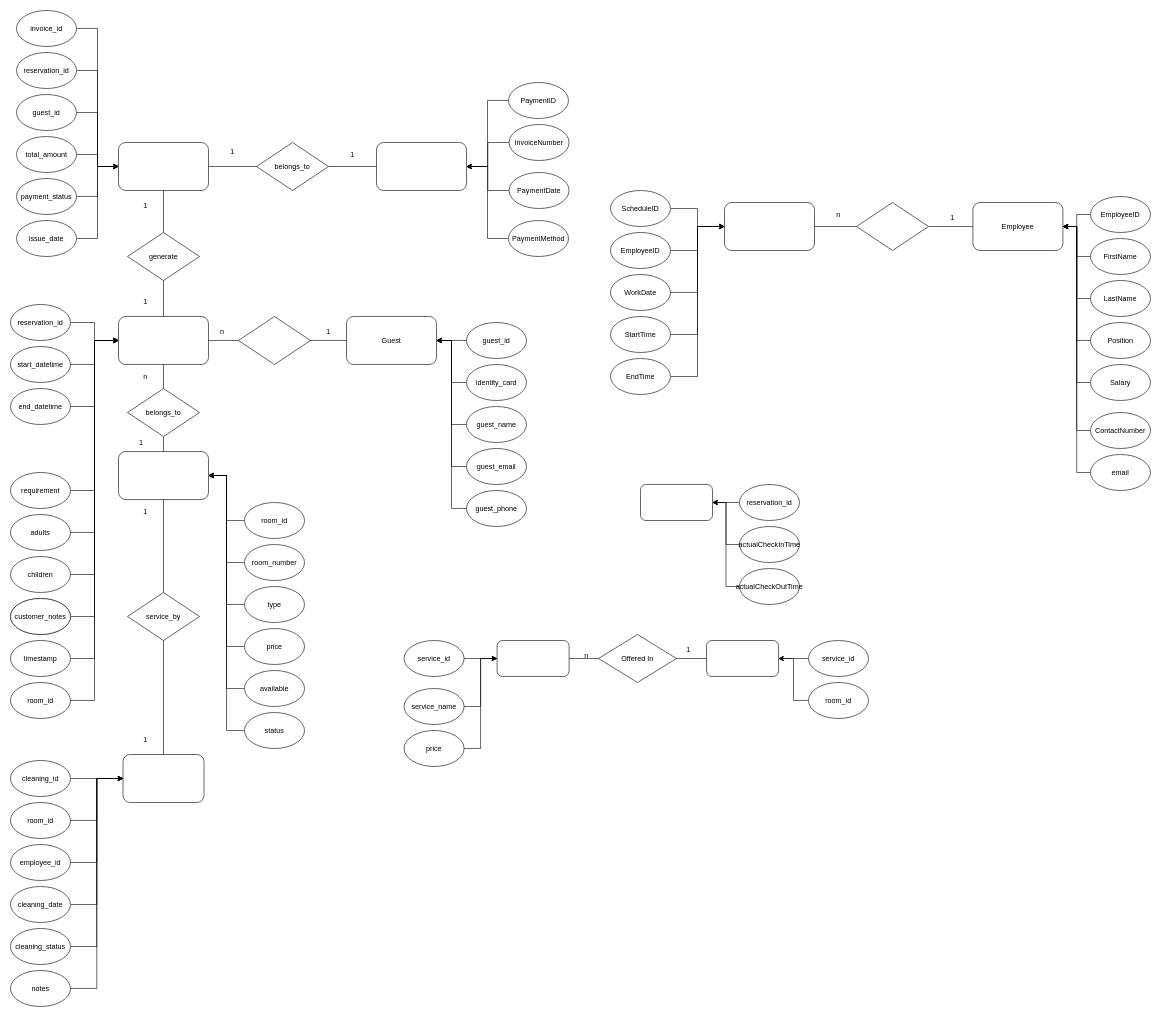
The diagram is 1161 pixels wide and 1017 high, and some of its shapes have lost their labels. The shapes that lost their labels are listed below. From the top down, each one's box as (x1, y1, x2, y2) in pixels, then its label:
(118, 142, 208, 190): invoices
(376, 142, 466, 190): Payment
(724, 202, 814, 250): Employee_Schedules
(856, 202, 928, 250): assigned_to
(118, 316, 208, 364): reservation
(238, 316, 310, 364): book
(118, 451, 208, 500): rooms
(640, 484, 712, 520): check_in_out
(496, 640, 569, 676): services
(706, 640, 778, 676): room_services
(122, 754, 204, 802): room_cleaning
